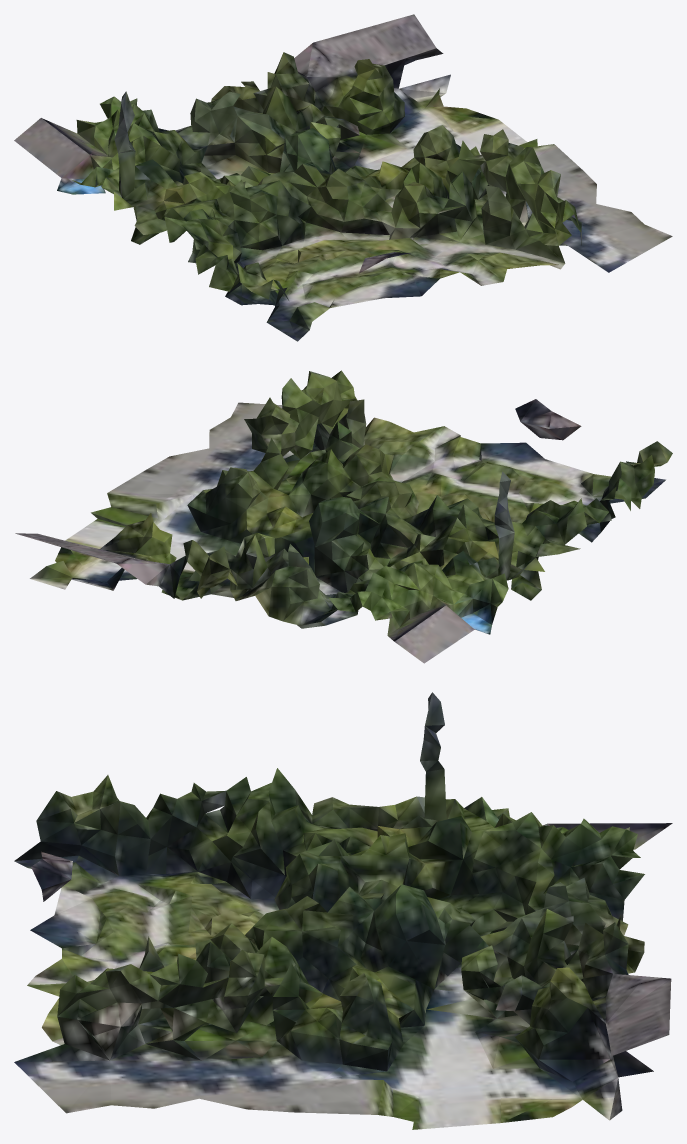
The model's file is Tile_+002_+005_L17_00.glb.
The picture shows the model from 3 angles, top to bottom: view 1: azimuth 30°, elevation 25°; view 2: azimuth 150°, elevation 25°; view 3: azimuth 270°, elevation 25°; orthographic projection. The views are drawn at different scales.
Size of the model in its own units: 58.29 by 19.13 by 60.16.
Materials: 1 (1 with a texture image).
